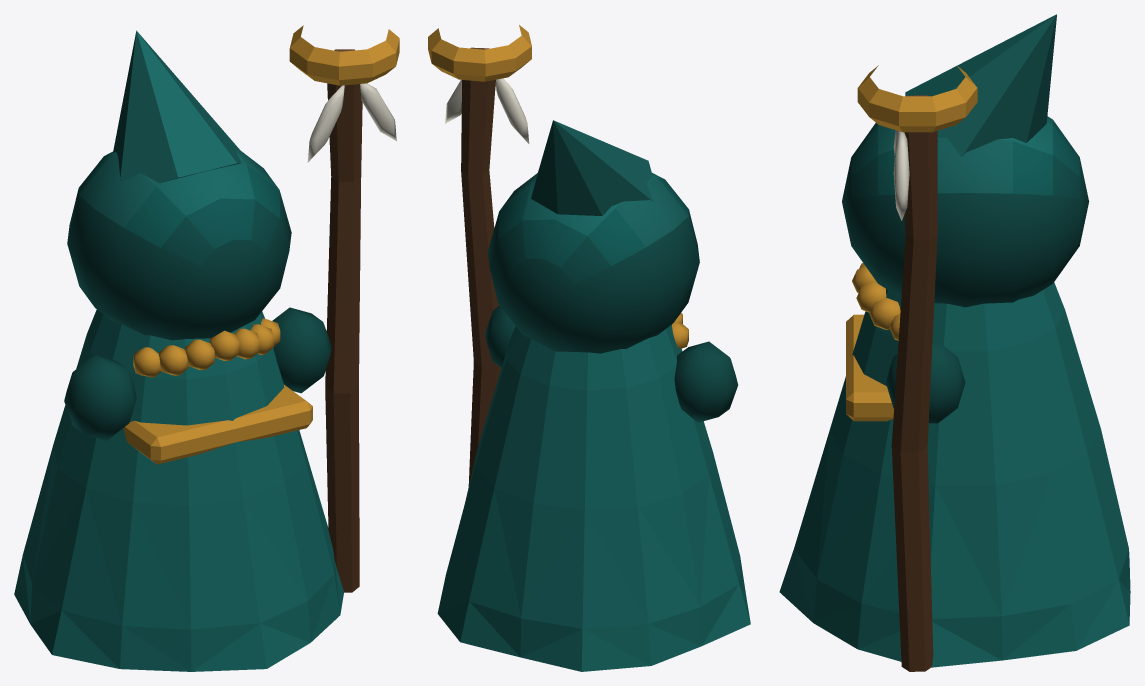
The model's file is chaman.glb.
3 renders of one model, left to right at view 1: azimuth 30°, elevation 25°; view 2: azimuth 150°, elevation 25°; view 3: azimuth 270°, elevation 25°, orthographic. The views are drawn at different scales.
Parts seen in each view (by area): view 1: corps.010; view 2: corps.010; view 3: corps.010.
Boxes of the visible parts, <box> form: corps.010: <box>14,25,399,671</box>; corps.010: <box>428,25,750,671</box>; corps.010: <box>779,14,1130,671</box>.
Size of the model in its own units: 1.03 by 1.63 by 0.88.
